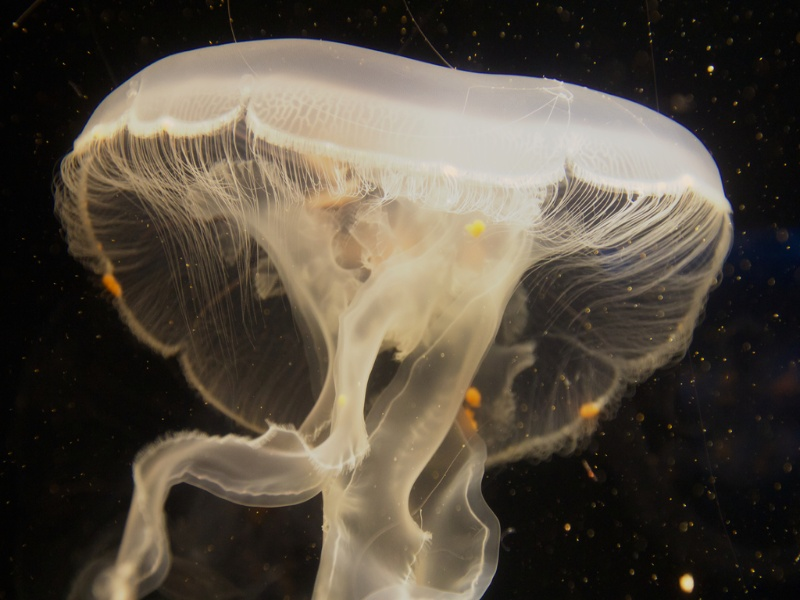Jellyfish: (50, 36, 735, 599)
